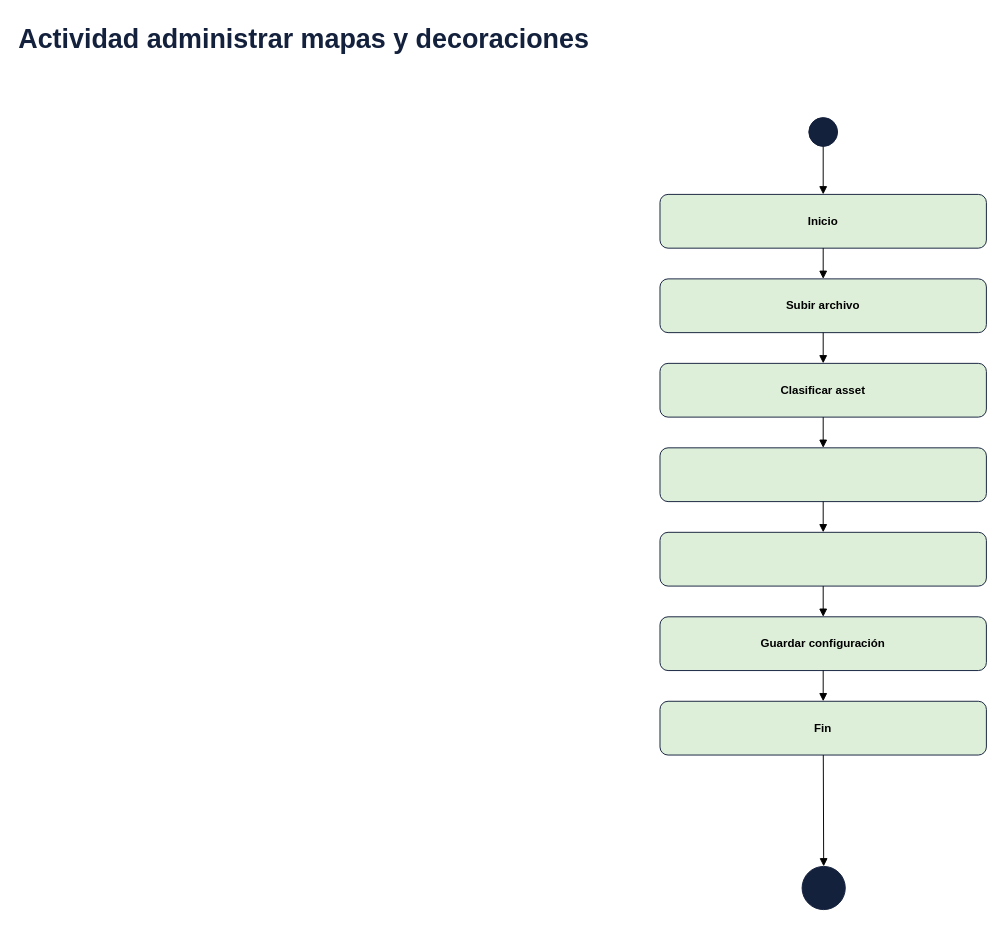
The diagram is 1003 pixels wide and 926 high, and some of its shapes have lost their labels. Each missing label, with the centre of its shape:
"Colocar en mapa" goes at point 822,474.
"Rotar o espejar" goes at point 822,558.
